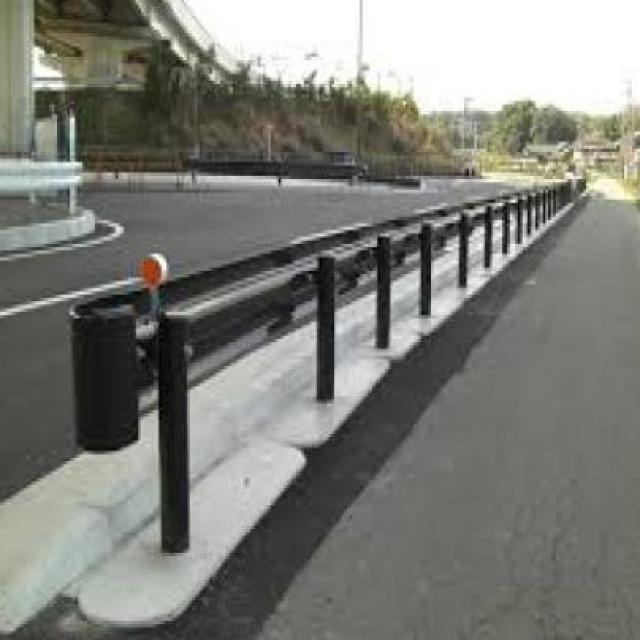Guard rail: (65, 170, 578, 574)
